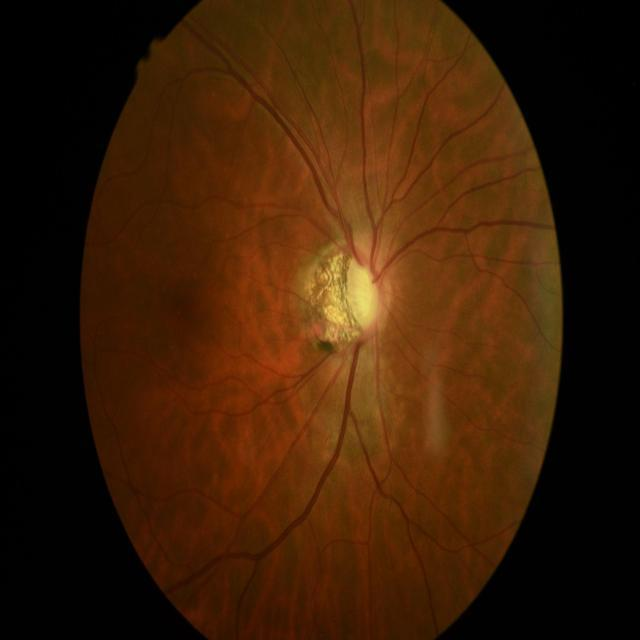cup: (348, 253, 378, 330)
disk: (346, 238, 390, 338)
